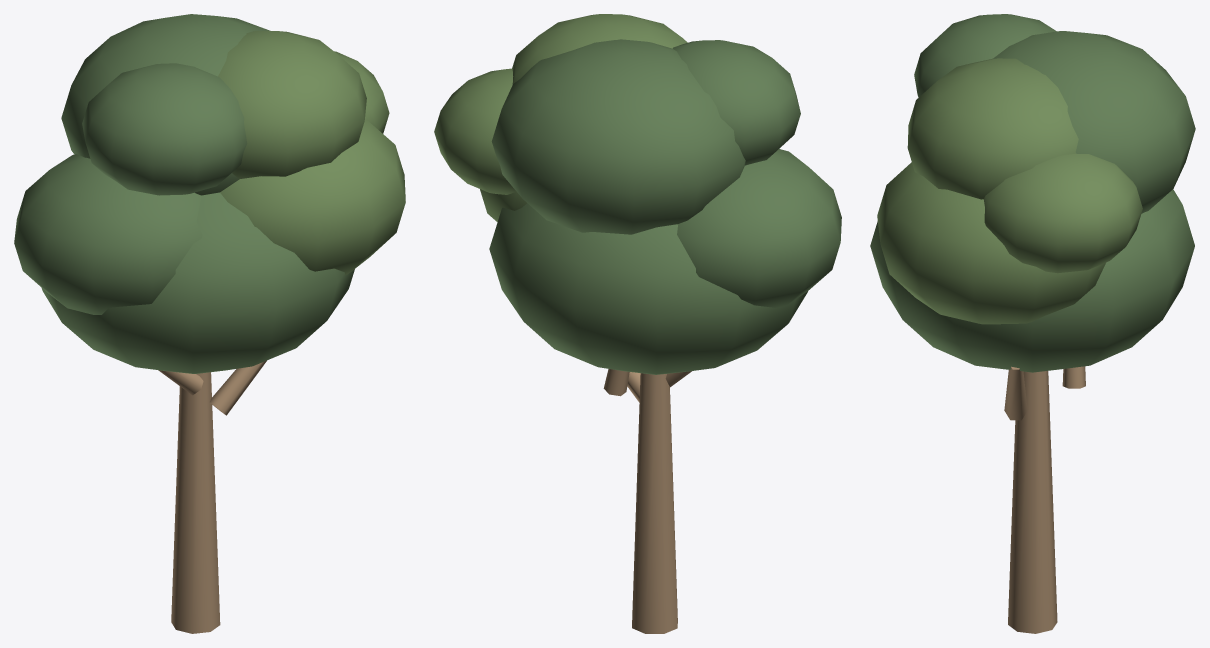
Rendered from tree-a.glb.
The picture shows the model from 3 angles, left to right: view 1: azimuth 30°, elevation 25°; view 2: azimuth 150°, elevation 25°; view 3: azimuth 270°, elevation 25°; orthographic projection.
Visible parts, largest first — view 1: foliage, foliageB, wood; view 2: foliage, foliageB, wood; view 3: foliageB, foliage, wood.
Part boxes in pixels (x1,y1,x2,y2): foliage: (14,14,354,373); foliageB: (218,31,405,274); wood: (158,360,266,633); foliage: (489,39,841,374); foliageB: (434,14,687,221); wood: (603,369,691,633); foliageB: (877,58,1142,324); foliage: (870,14,1195,372); wood: (1004,366,1085,633).
Bounding box in the file's own units: 5.12 × 7.74 × 3.91.
